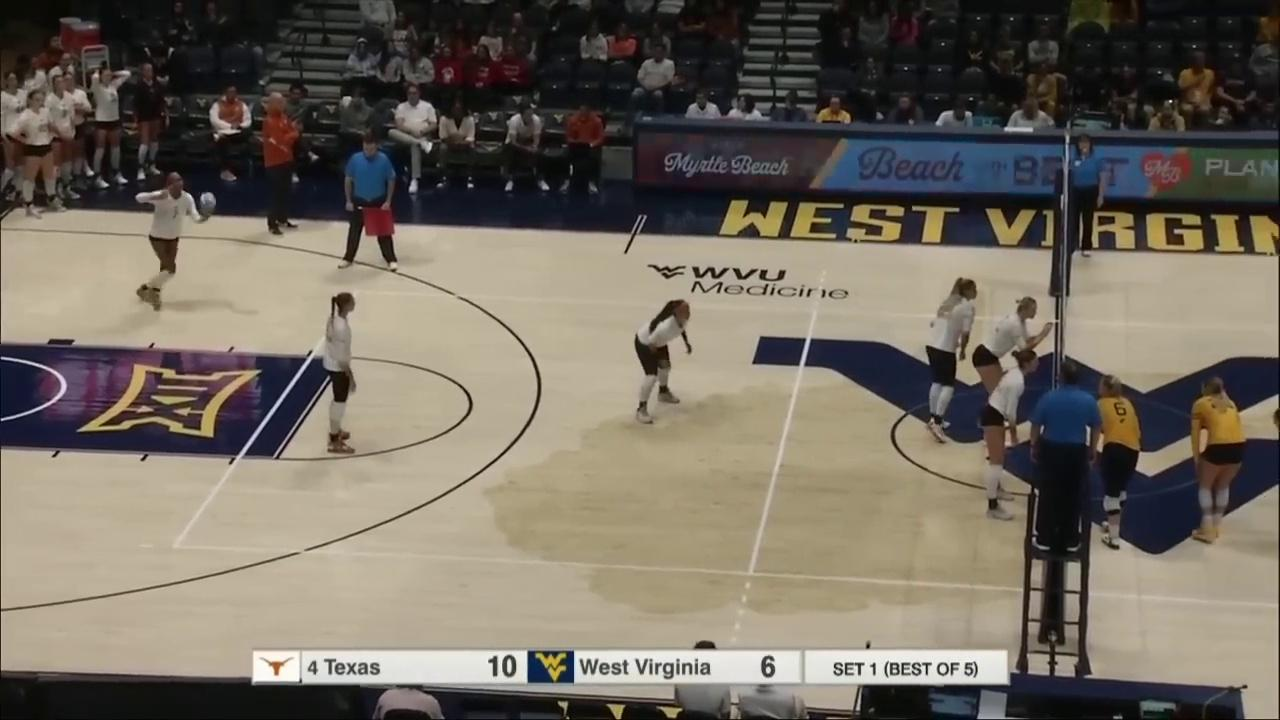player: (973, 296, 1053, 454), (137, 168, 213, 317), (976, 349, 1039, 520), (1189, 375, 1245, 546), (1091, 375, 1142, 555), (925, 275, 978, 442), (631, 301, 693, 425), (319, 291, 362, 453)
refree: (1032, 362, 1099, 551), (338, 137, 398, 273), (1065, 134, 1106, 259)
